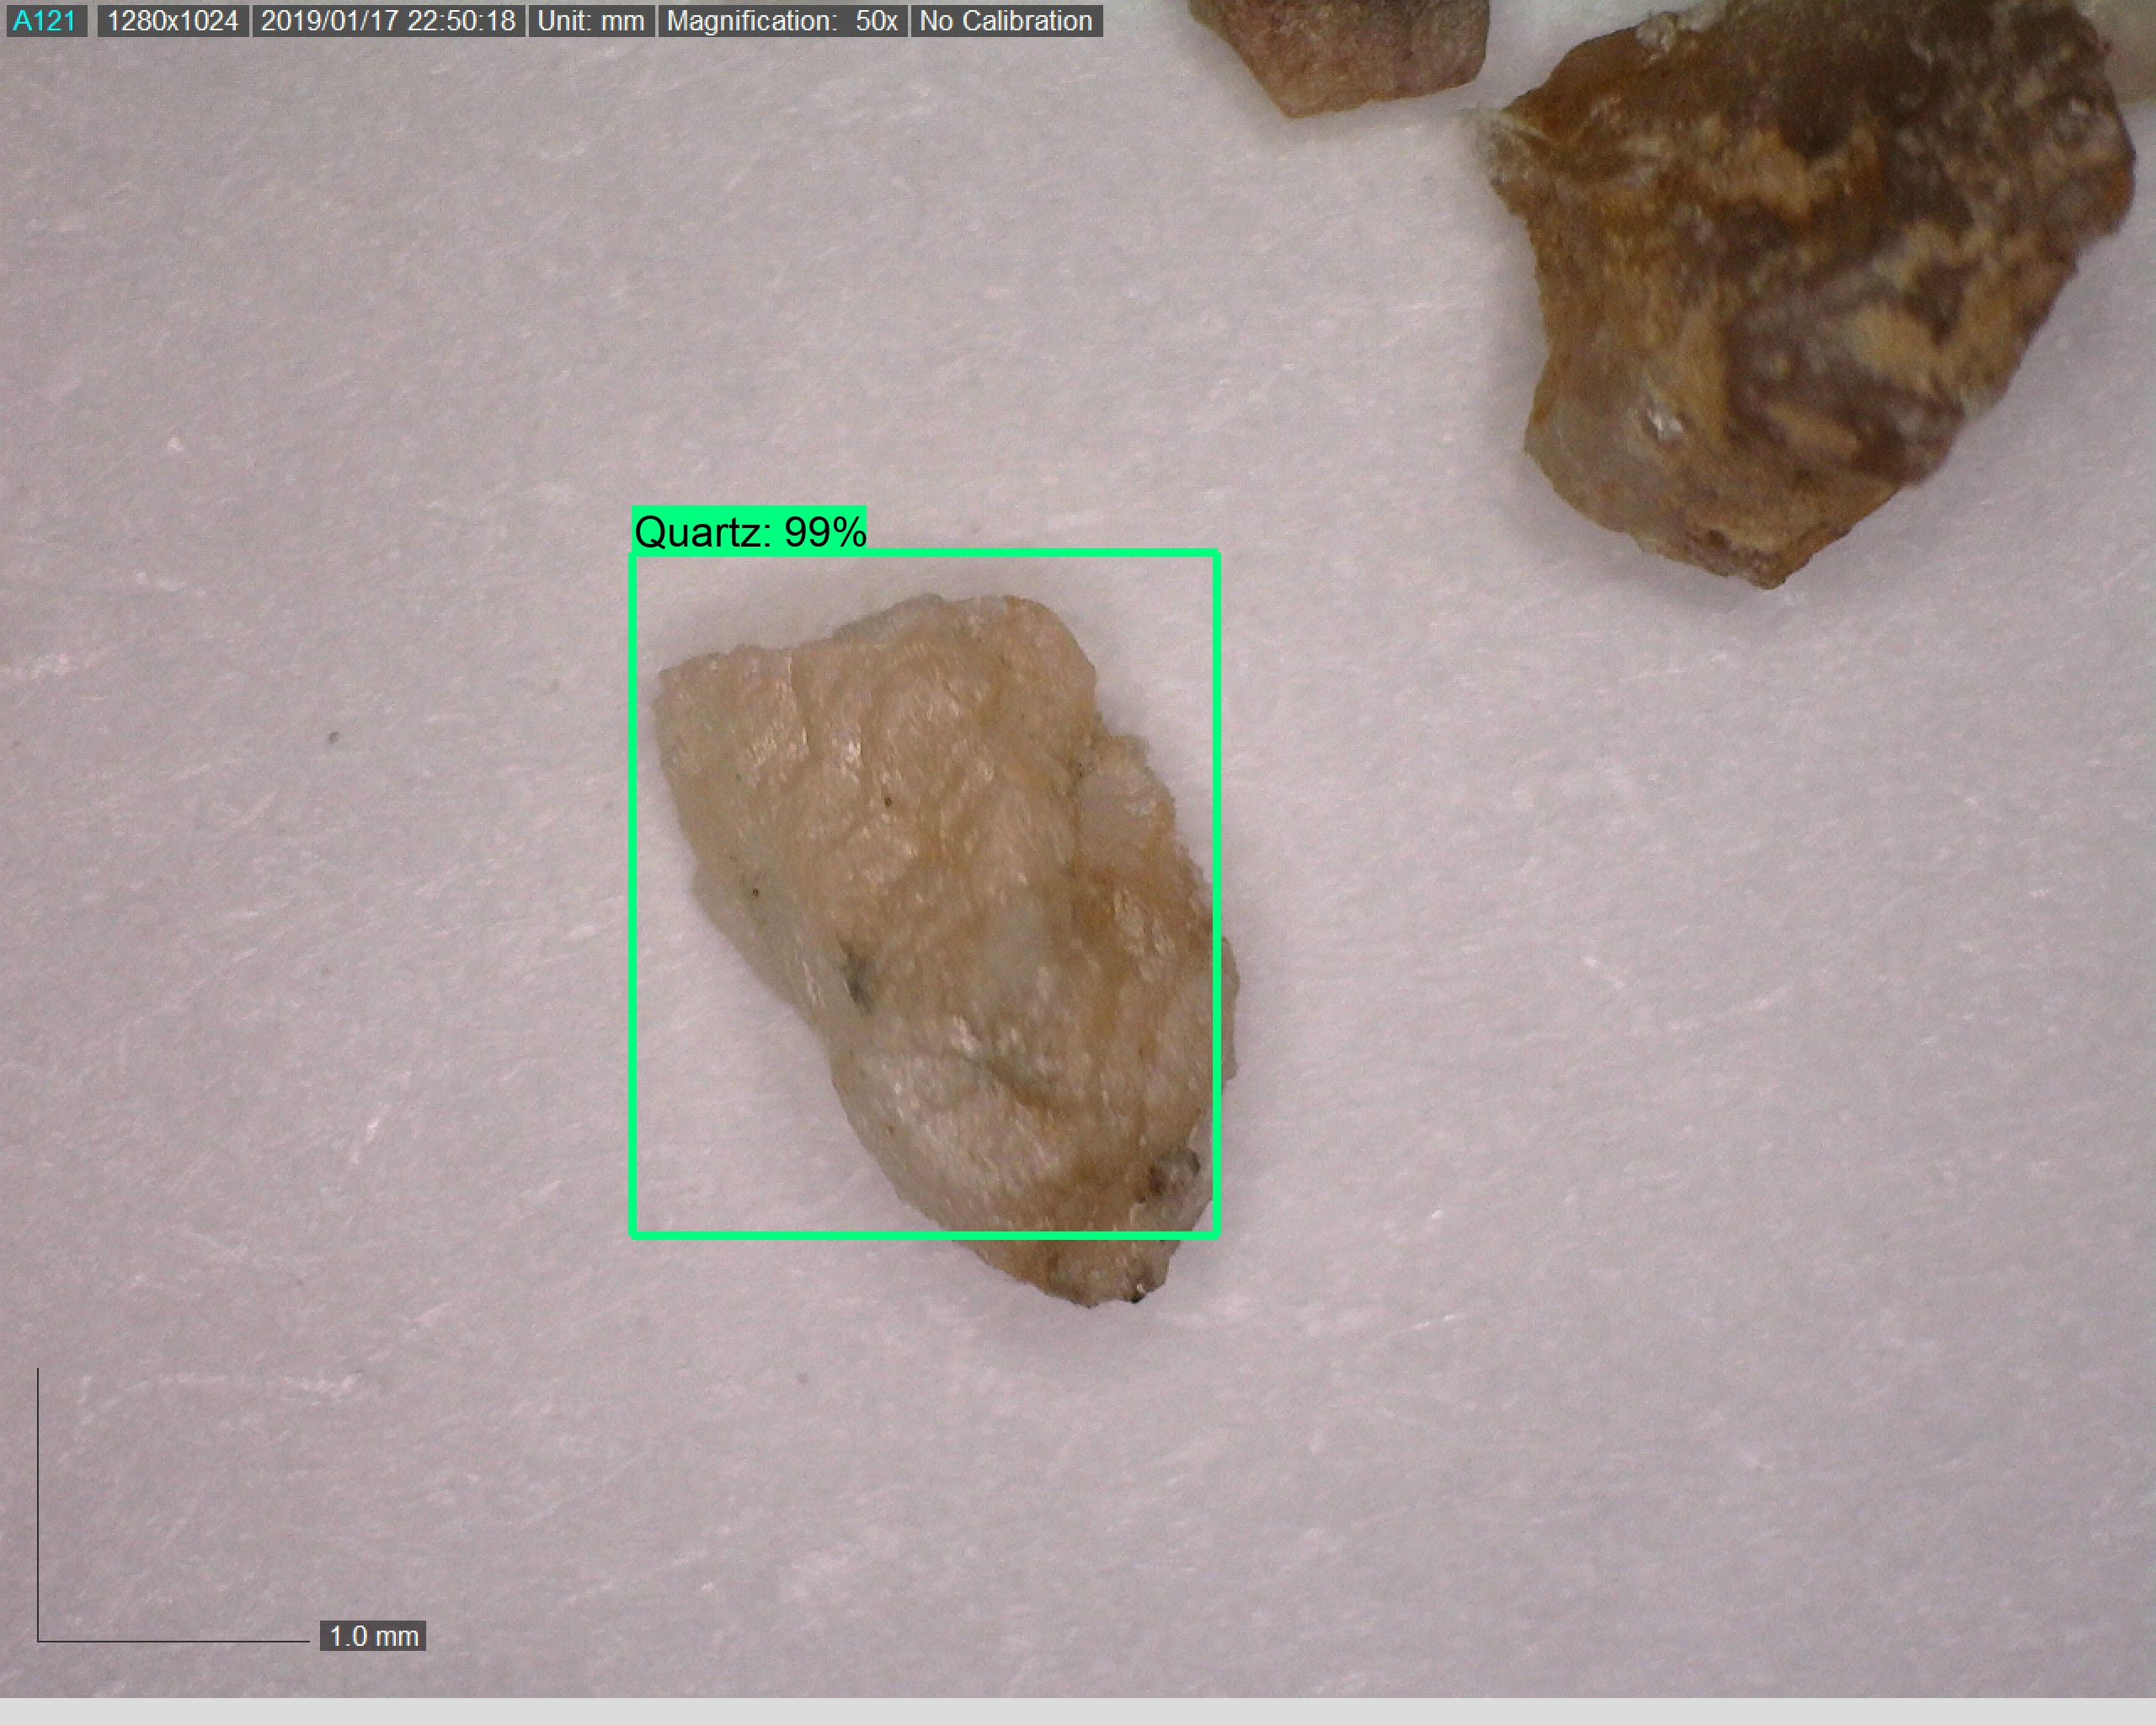Quartz: (618, 579, 1258, 1317)
